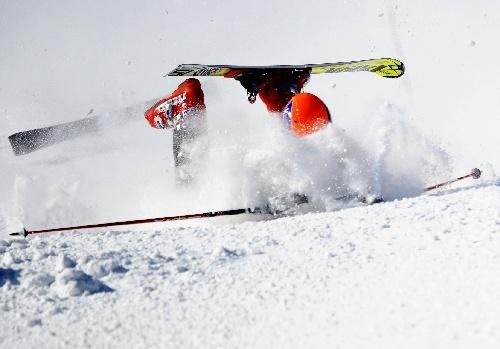falling: (116, 34, 486, 239)
